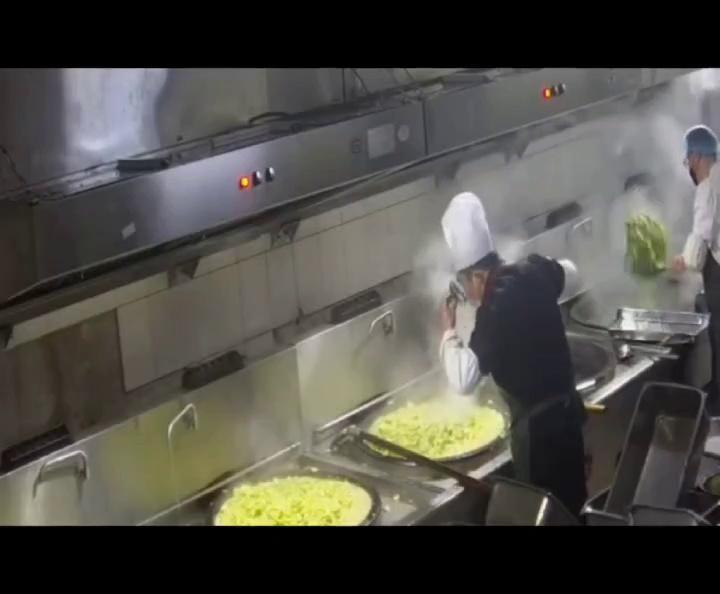gloves: (677, 123, 720, 156)
